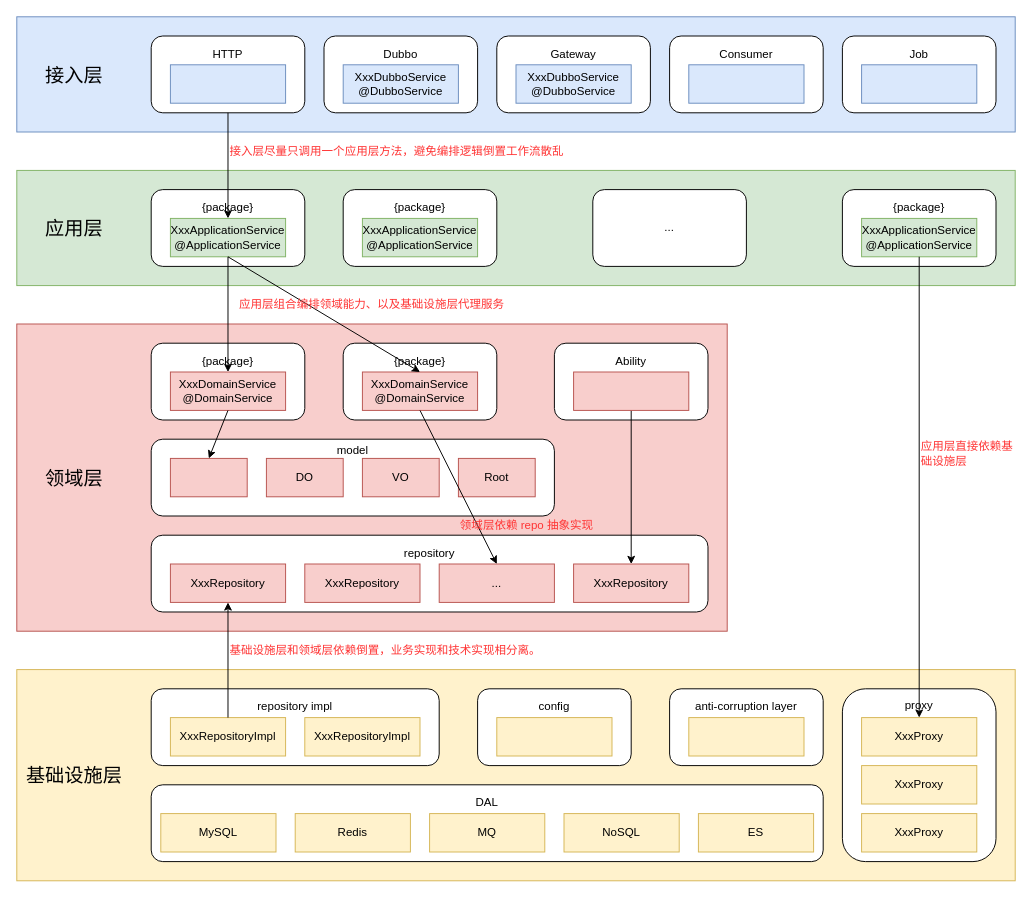
Some shapes in this 1032 by 898 pixel diagram are drawn without their labels. The shapes that lost their labels are listed below. From the top down, each one's centre as x and y in pixels, then its label:
At pixel 227 83: "XxxRest @RestController".
At pixel 746 83: "XxxConsumer @RocketMQListener".
At pixel 919 83: "XxxJob @XxxJob".
At pixel 631 390: "XxxAbility @DomainAbility".
At pixel 208 477: "Entity".
At pixel 554 736: "XxxConfig".
At pixel 746 736: "XxxACL".
